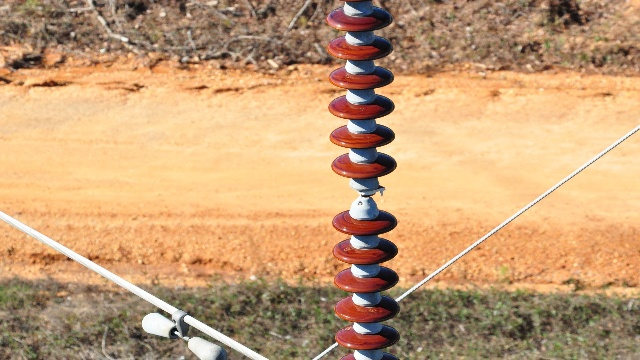broken_local: (352, 186, 386, 198)
insulator_unspecified: (321, 7, 405, 359)
